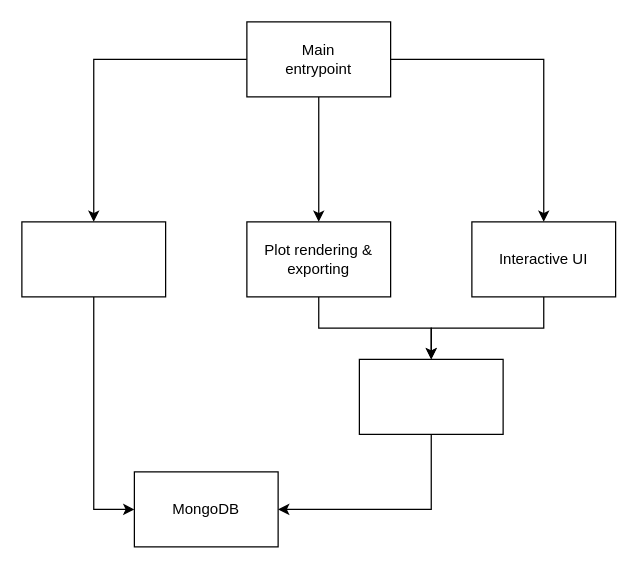
Image size: 638x569. Some labels were removed from this diagram. Each missing label, with the centre of its shape:
Datenaufbereitung: (430,396)
Loading mechanism: (93,259)
